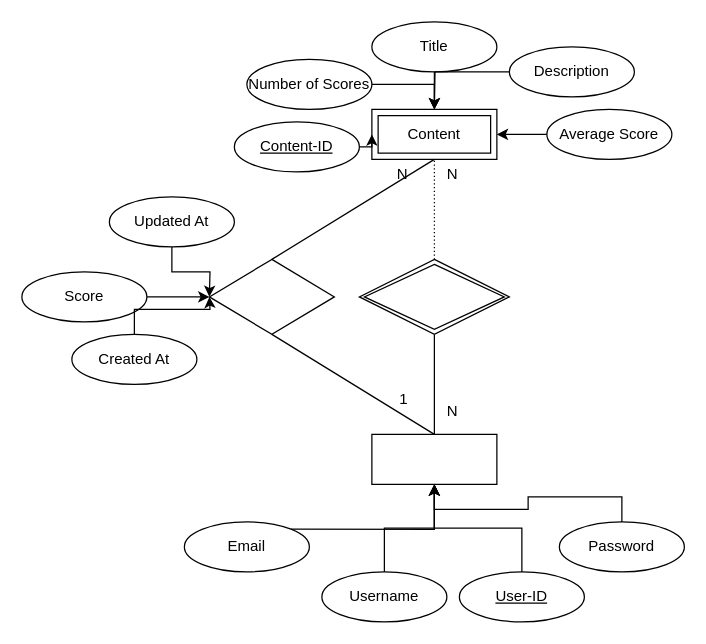
The diagram is 706 pixels wide and 644 high, and some of its shapes have lost their labels. The centre of each missing label's shape, as x and y in pixels:
"Has" goes at pixel 433 296.
"Rate" goes at pixel 271 296.
"User" goes at pixel 434 458.
